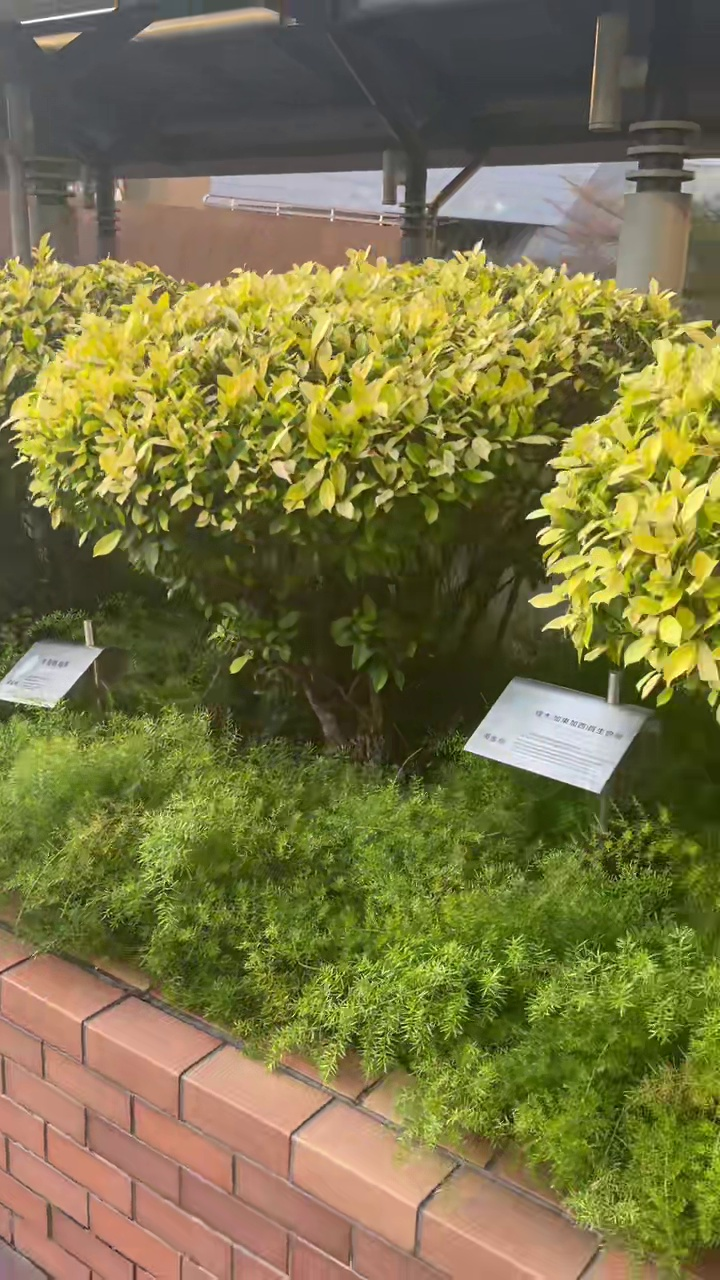Golden-leaves Fig: (10, 253, 686, 759)
